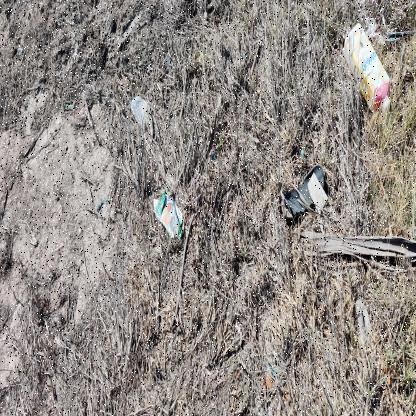cardboard: (343, 22, 391, 113), (154, 189, 184, 239), (308, 172, 328, 214)
